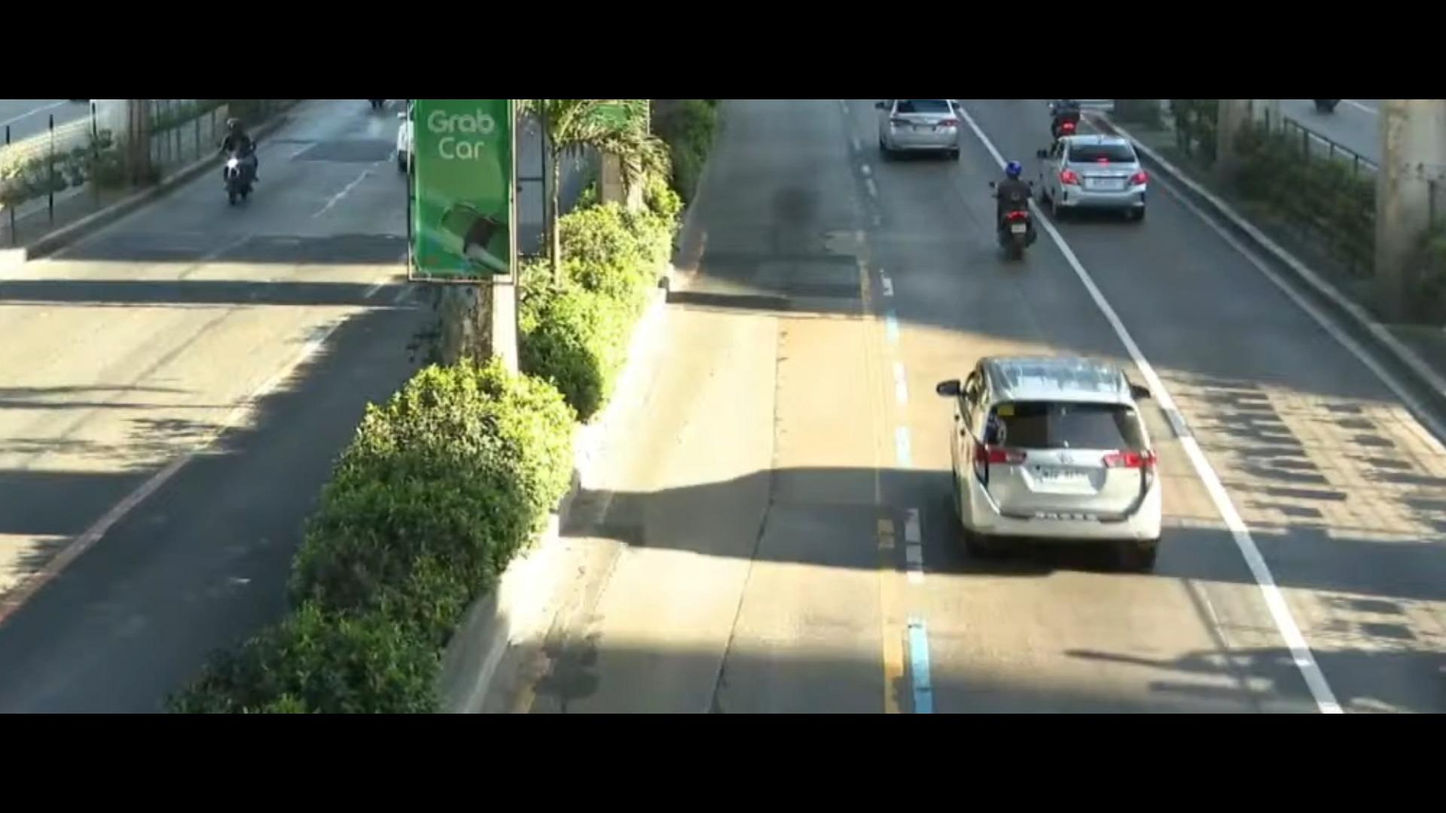Motorcycle: (983, 158, 1069, 249), (200, 123, 260, 208), (1049, 98, 1112, 154)
SUV: (898, 303, 1180, 586)
Sedan: (865, 107, 972, 155)
